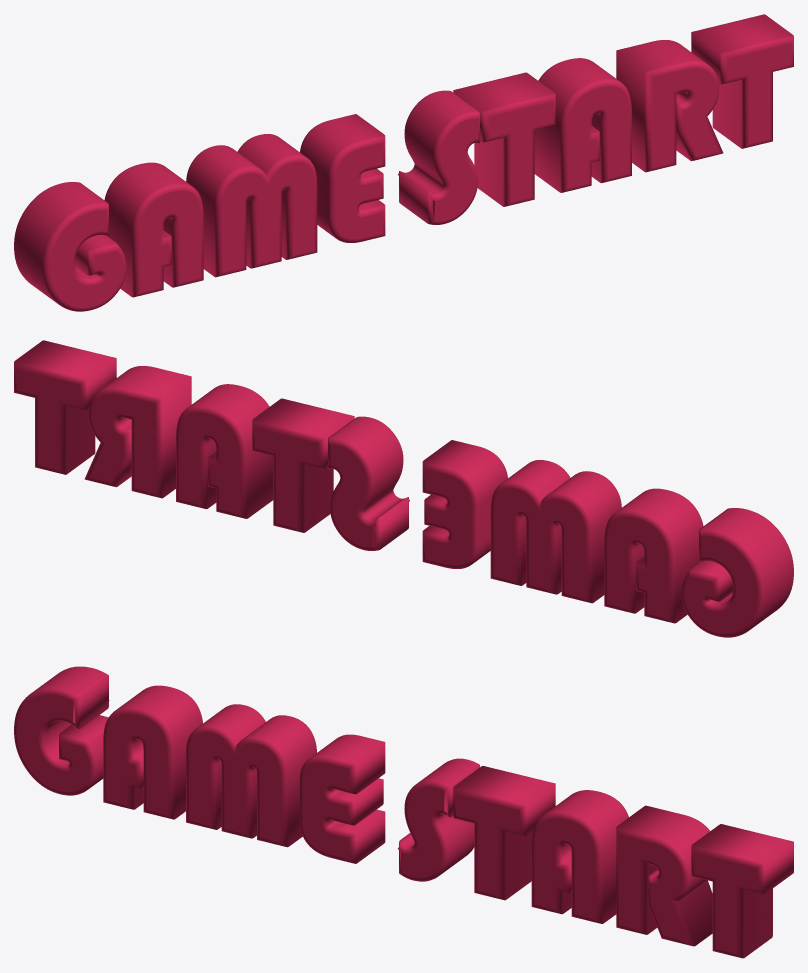
3 renders of one model, top to bottom at view 1: azimuth 30°, elevation 25°; view 2: azimuth 150°, elevation 25°; view 3: azimuth 330°, elevation 25°, orthographic.
Visible parts, largest first — view 1: テキスト; view 2: テキスト; view 3: テキスト.
Boxes of the visible parts, x1,y1,x2,y2 form: テキスト: (14,14,793,311); テキスト: (14,340,793,637); テキスト: (14,666,793,958).
Bounding box in the file's own units: 4.68 × 0.629 × 0.36.
